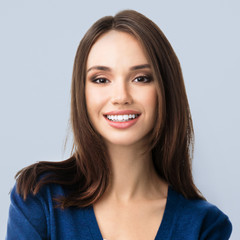young: (73, 13, 181, 152)
